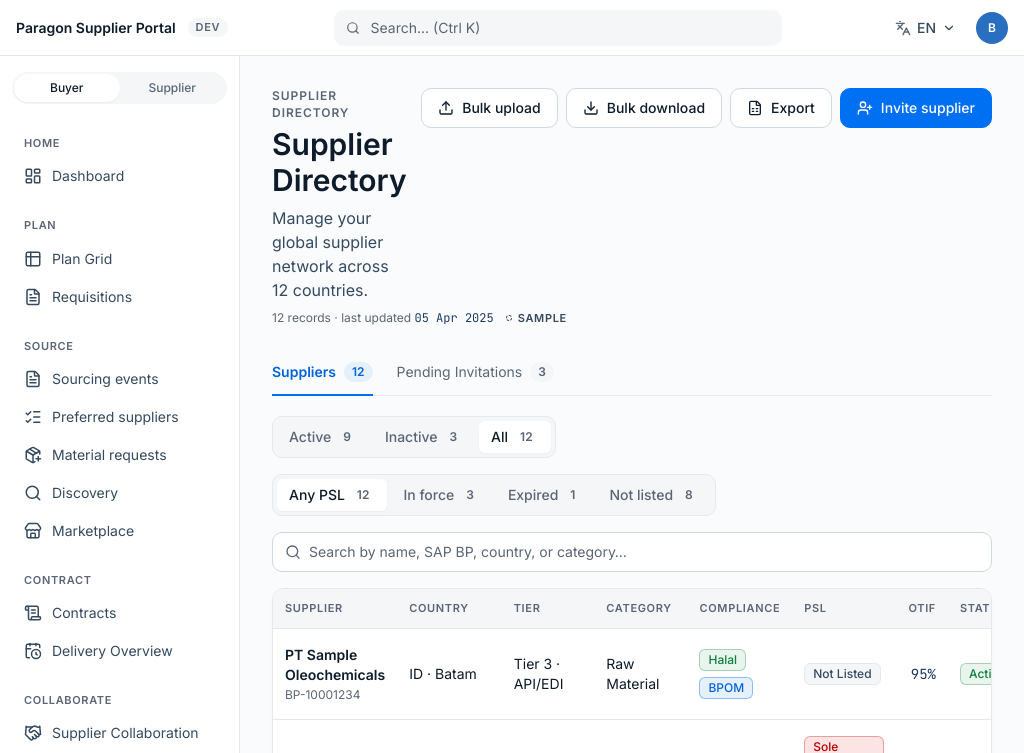
BuyerSuppliers — the PSL column (EN) › ⚠️ the PSL filter narrows the table, and clears back
Expected: the link "PT Sample Oleochemicals" is shown, [285,646,385,683]
Click the radio button labelled "Not listed 8" at (654, 495), box [597,479,711,511]
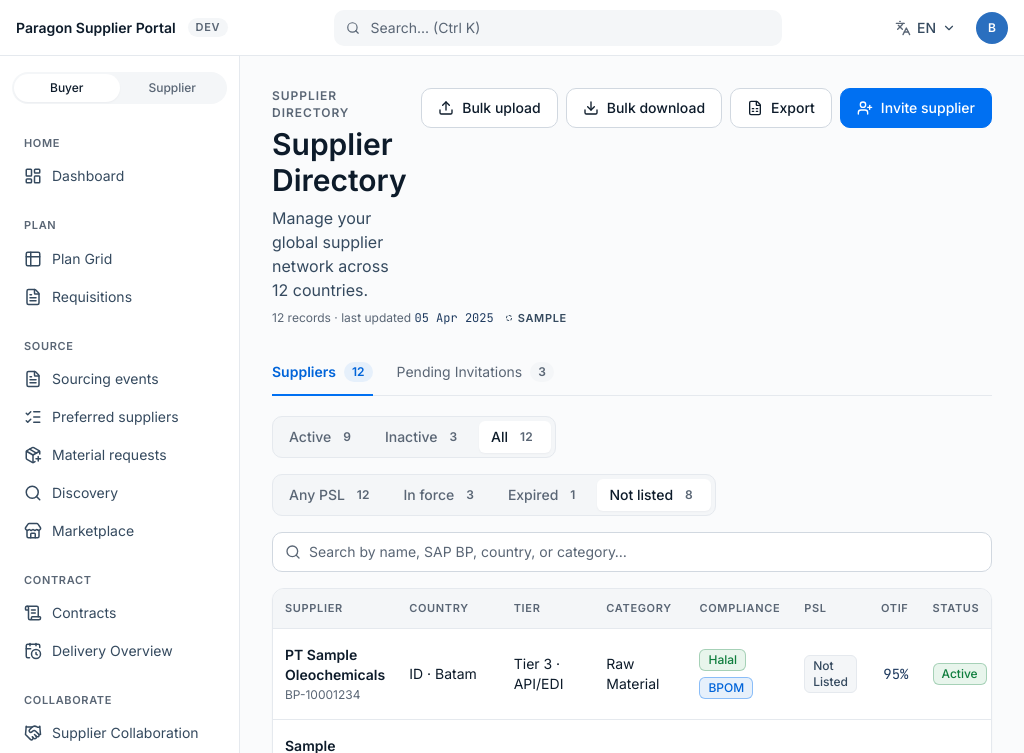
Expected: the link "PT Sample Oleochemicals" is shown, [285,646,385,683]
Click the radio button labelled "In force 3" at (442, 495), box [391,479,492,511]
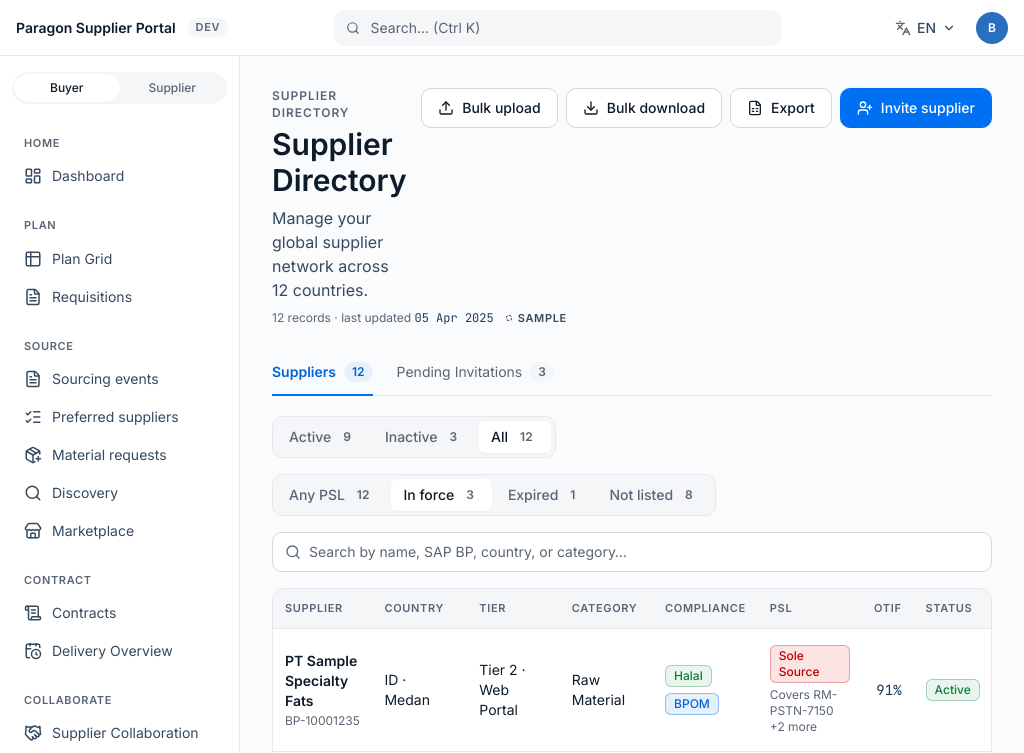
Result: the link "PT Sample Specialty Fats" is shown at [285,652,357,709]
Result: the link "PT Sample Oleochemicals" is gone
Click the radio button labelled "Any PSL 12" at (332, 495), box [277,479,387,511]
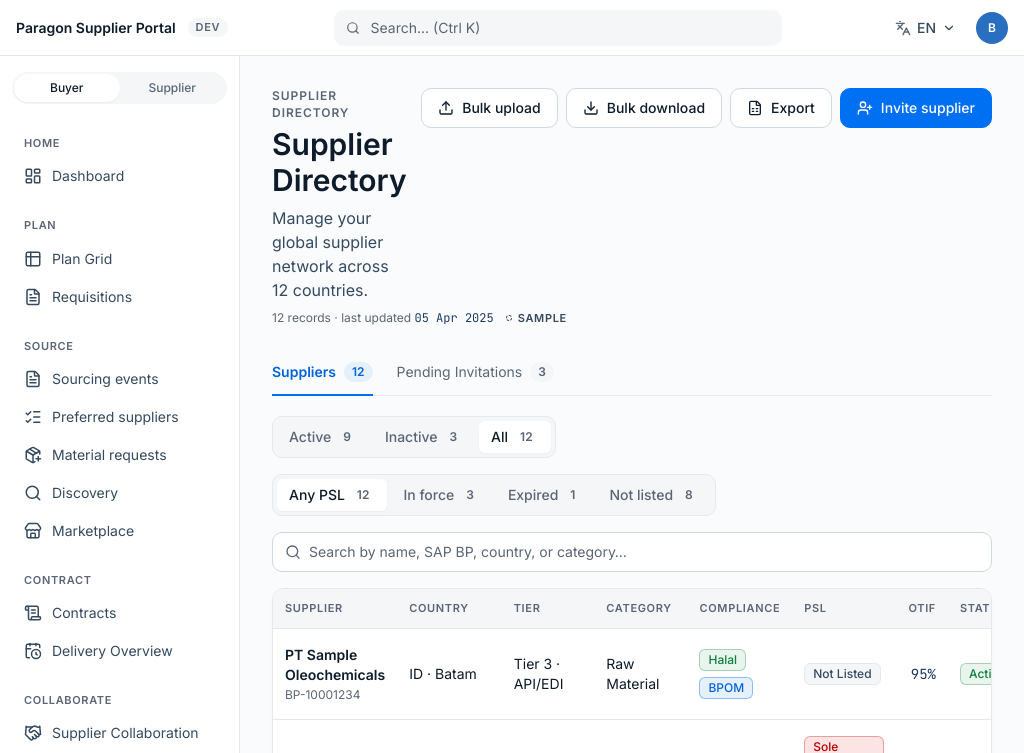
Result: the link "PT Sample Oleochemicals" is shown at [285,646,385,683]
